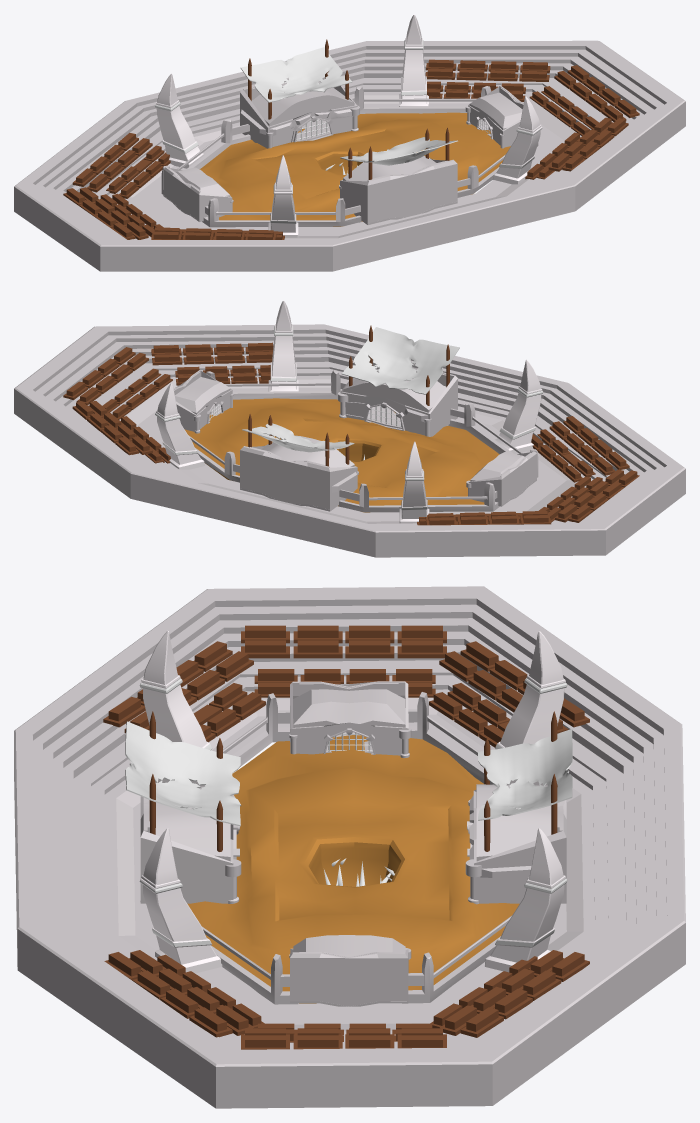
Rendered from ring_pallo_test6.fbx.
3 views of the same model, one above another, from view 1: azimuth 30°, elevation 25°; view 2: azimuth 150°, elevation 25°; view 3: azimuth 270°, elevation 25° (orthographic). The views are drawn at different scales.
Parts seen in each view (by area): view 1: Spalti, Tribune, Sand_base, PunteOssa, Gabbia1, Gabbia2, Flag1, GabbiaSmall2, GabbiaSmall1, Paletti1, Paletti2; view 2: Spalti, Tribune, Sand_base, PunteOssa, Gabbia2, Flag1, Gabbia1, GabbiaSmall2, GabbiaSmall1, Paletti2, Paletti1; view 3: Spalti, Sand_base, Tribune, PunteOssa, Flag1, GabbiaSmall2, GabbiaSmall1, Gabbia2, Gabbia1, Paletti2, Paletti1.
Boxes of the visible parts, x1=… form: Spalti: x1=14, y1=40, x2=685, y2=271; Tribune: x1=63, y1=59, x2=639, y2=239; Sand_base: x1=199, y1=112, x2=510, y2=226; PunteOssa: x1=155, y1=14, x2=542, y2=237; Gabbia1: x1=339, y1=153, x2=457, y2=224; Gabbia2: x1=240, y1=70, x2=359, y2=148; Flag1: x1=240, y1=47, x2=457, y2=165; GabbiaSmall2: x1=163, y1=167, x2=233, y2=221; GabbiaSmall1: x1=465, y1=85, x2=523, y2=148; Paletti1: x1=348, y1=127, x2=449, y2=179; Paletti2: x1=248, y1=39, x2=348, y2=119; Spalti: x1=14, y1=324, x2=685, y2=557; Tribune: x1=63, y1=342, x2=639, y2=525; Sand_base: x1=184, y1=398, x2=499, y2=512; PunteOssa: x1=155, y1=300, x2=543, y2=523; Gabbia2: x1=240, y1=435, x2=358, y2=511; Flag1: x1=242, y1=327, x2=459, y2=452; Gabbia1: x1=338, y1=360, x2=457, y2=436; GabbiaSmall2: x1=466, y1=451, x2=536, y2=506; GabbiaSmall1: x1=173, y1=370, x2=233, y2=433; Paletti2: x1=248, y1=414, x2=349, y2=466; Paletti1: x1=349, y1=325, x2=449, y2=405; Spalti: x1=14, y1=586, x2=685, y2=1108; Sand_base: x1=187, y1=735, x2=519, y2=1003; Tribune: x1=103, y1=625, x2=589, y2=1049; PunteOssa: x1=139, y1=631, x2=567, y2=973; Flag1: x1=125, y1=721, x2=572, y2=826; GabbiaSmall2: x1=289, y1=681, x2=411, y2=758; GabbiaSmall1: x1=289, y1=935, x2=411, y2=1006; Gabbia2: x1=465, y1=780, x2=566, y2=904; Gabbia1: x1=140, y1=778, x2=241, y2=903; Paletti2: x1=484, y1=711, x2=557, y2=851; Paletti1: x1=149, y1=711, x2=222, y2=851.
Bounding box in the file's own units: 5257 × 950 × 3107.
